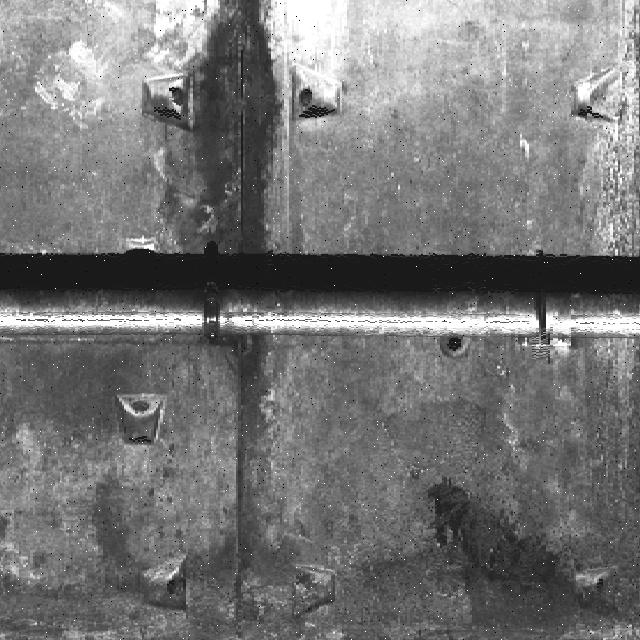leakage: (149, 1, 297, 262), (200, 335, 286, 603)
